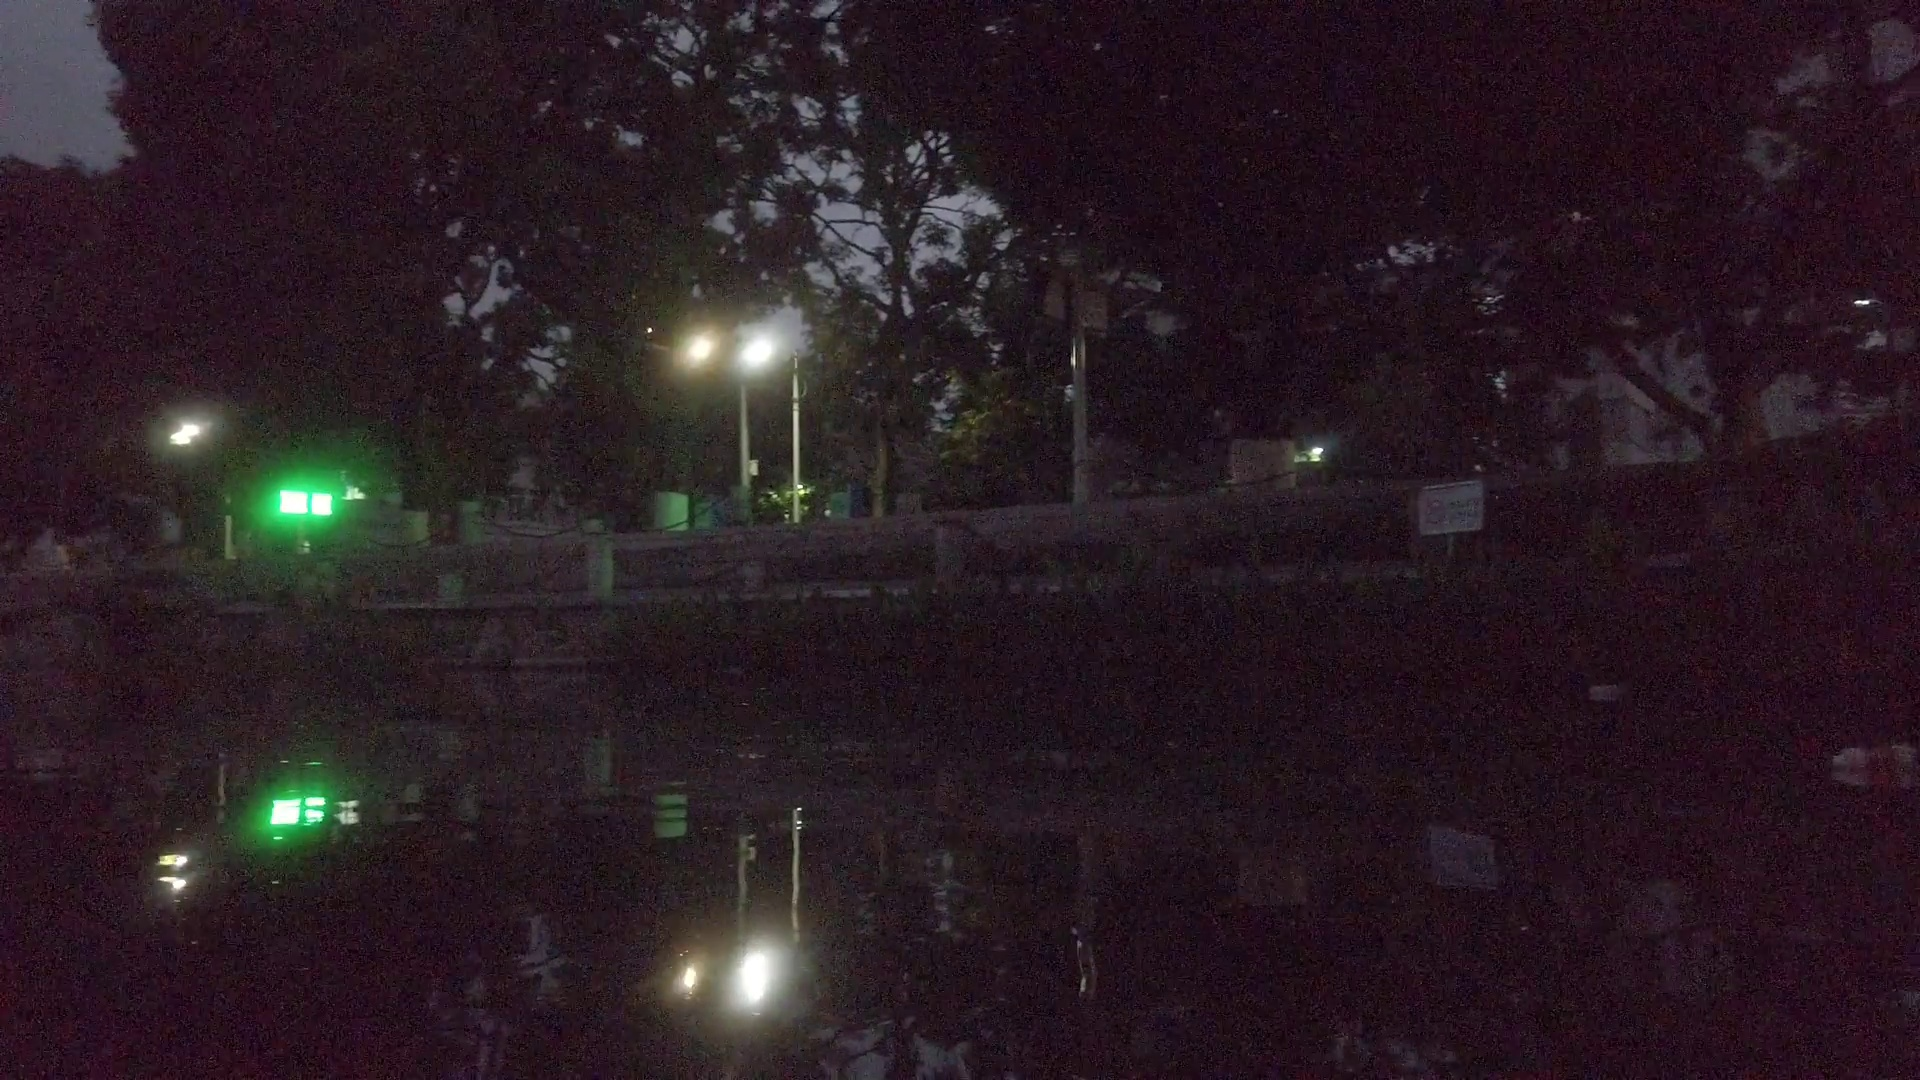bottle: (1824, 744, 1913, 773)
carton: (1585, 683, 1615, 698)
